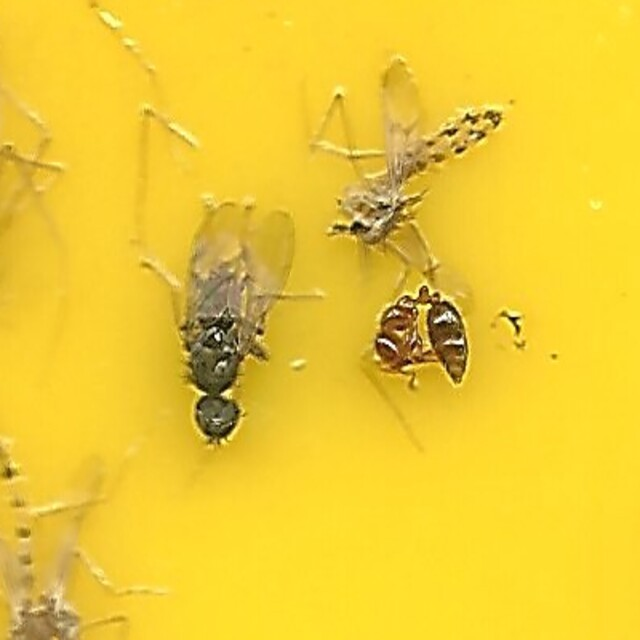Brachycera: (160, 196, 291, 444)
Hymenoptera: (371, 278, 480, 401)
